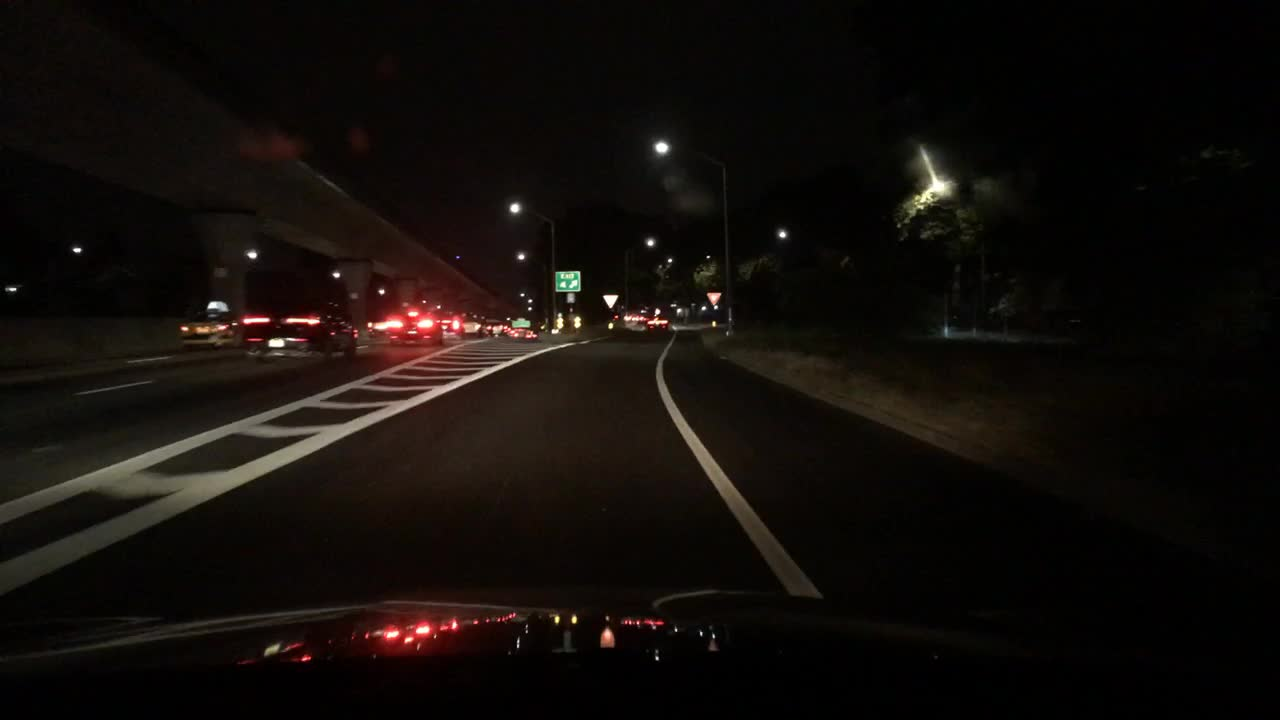car: (238, 288, 358, 364), (174, 299, 248, 352), (388, 308, 444, 346), (366, 309, 398, 337), (435, 312, 462, 335), (460, 315, 485, 337), (646, 310, 671, 330), (515, 321, 536, 343), (485, 319, 501, 336), (638, 311, 651, 325), (630, 311, 642, 323), (502, 325, 515, 336)
traffic sign: (554, 270, 580, 291), (602, 294, 619, 306), (705, 291, 721, 303), (511, 317, 530, 326), (566, 293, 574, 303)
